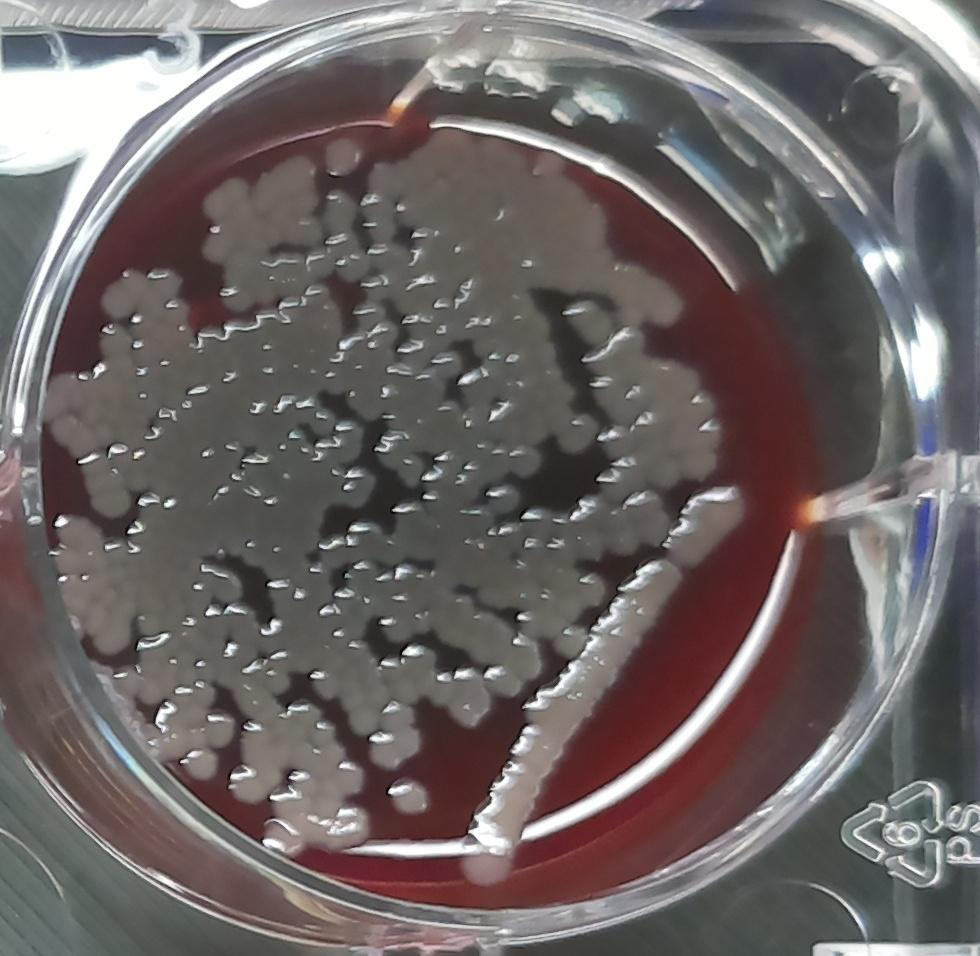paeruginosa: (459, 555, 680, 892), (665, 467, 759, 571)
